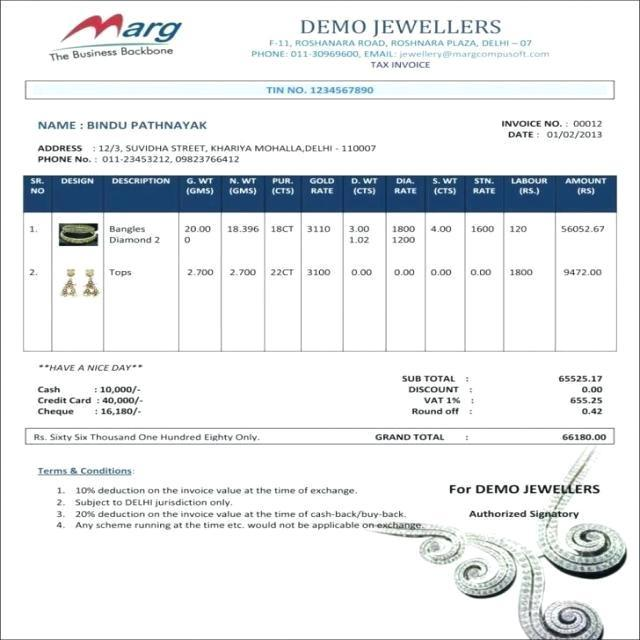paragraph: (32, 461, 427, 535), (29, 112, 384, 169), (247, 12, 554, 74), (373, 368, 611, 445), (45, 10, 191, 67), (31, 358, 153, 423), (443, 479, 608, 522), (29, 428, 266, 445), (494, 116, 609, 144), (263, 80, 378, 99)
table: (21, 174, 623, 333)
